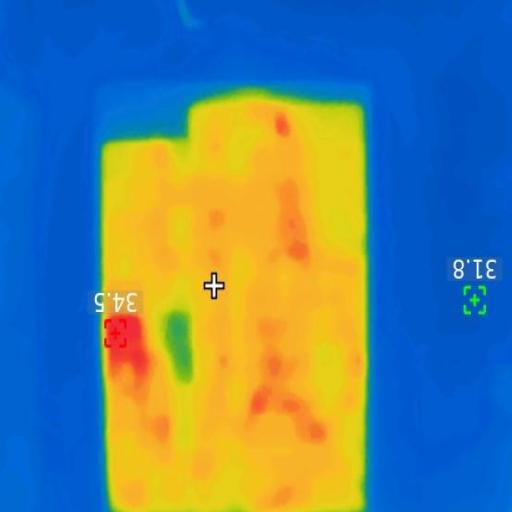hotspot: (96, 309, 150, 375), (300, 419, 328, 448), (266, 112, 292, 138), (248, 388, 270, 417), (287, 238, 308, 266)
